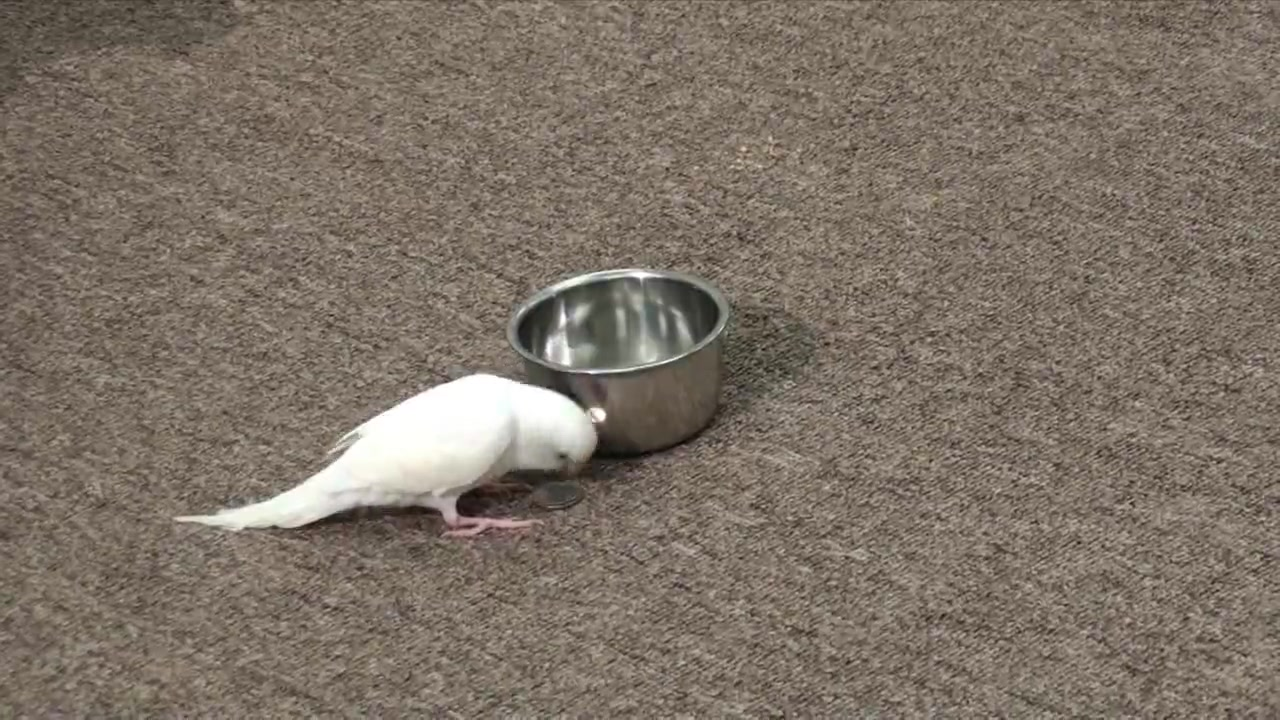bird: (171, 374, 600, 540)
